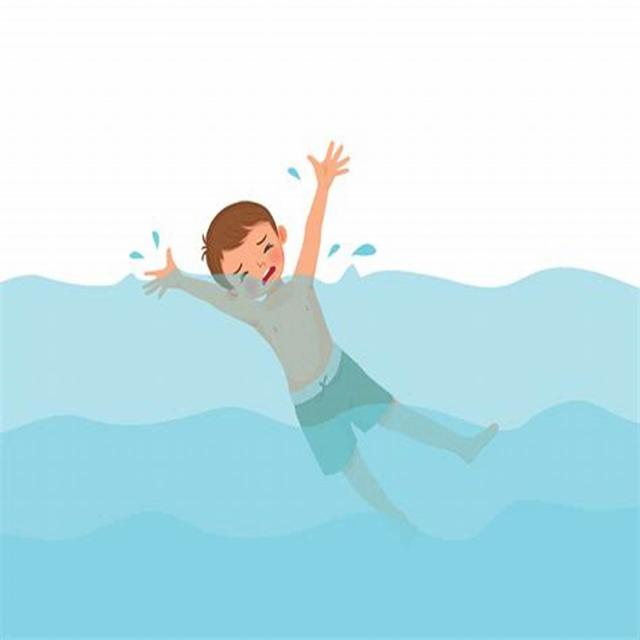drowning: (125, 102, 445, 563)
